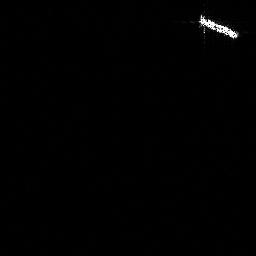ship: (196, 11, 241, 42)
